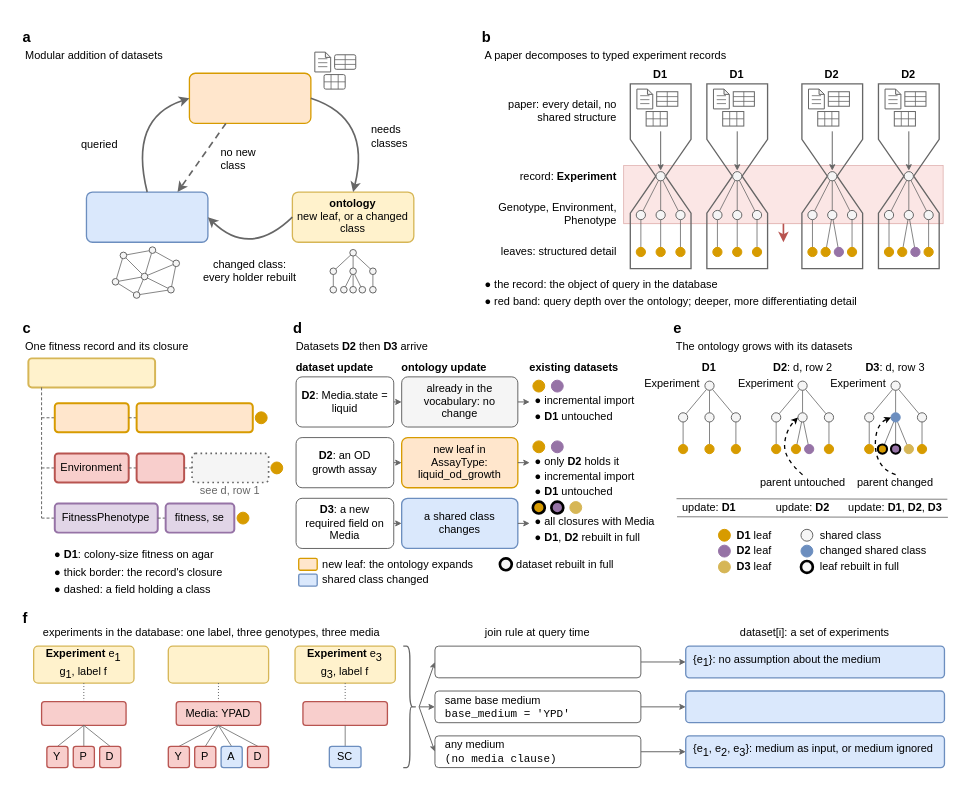
This 972x791 diagram has some shape labels left out. Each missing label, with the centre of its shape:
"database amended or rebuilt" belongs at pixel 146 216.
"dataset add a new one" belongs at pixel 249 97.
"DeletionPerturbation" belongs at pixel 194 417.
"Experiment e 2 g 2 , label f" belongs at pixel 218 664.
"FitnessExperiment" belongs at pixel 91 372.
"Genotype" belongs at pixel 91 417.
"Media" belongs at pixel 160 467.
"Media: SC" belongs at pixel 344 712.
"Media: YPD" belongs at pixel 83 712.
"same medium name = 'YPD'" belongs at pixel 537 661.
"state = solid" belongs at pixel 230 467.
"{e 1 , e 2 }: adenine assumed not to matter" belongs at pixel 814 706.
